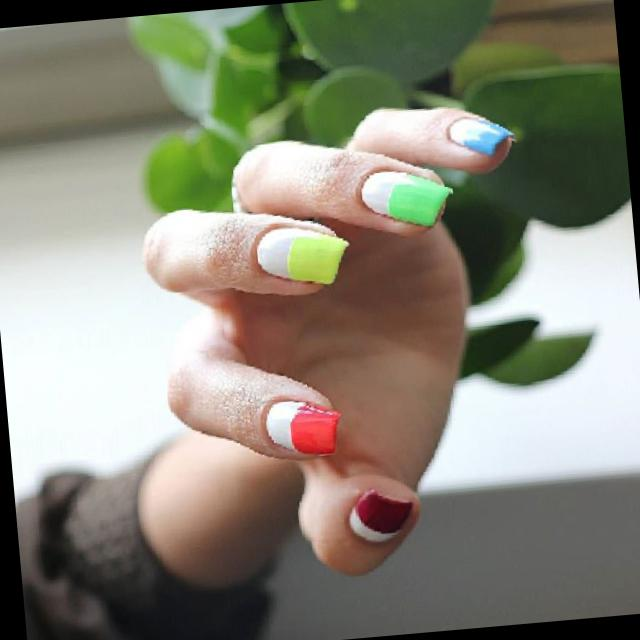Nail: (256, 226, 347, 283), (361, 169, 452, 225), (265, 400, 340, 453), (349, 487, 412, 541), (449, 116, 513, 155)
